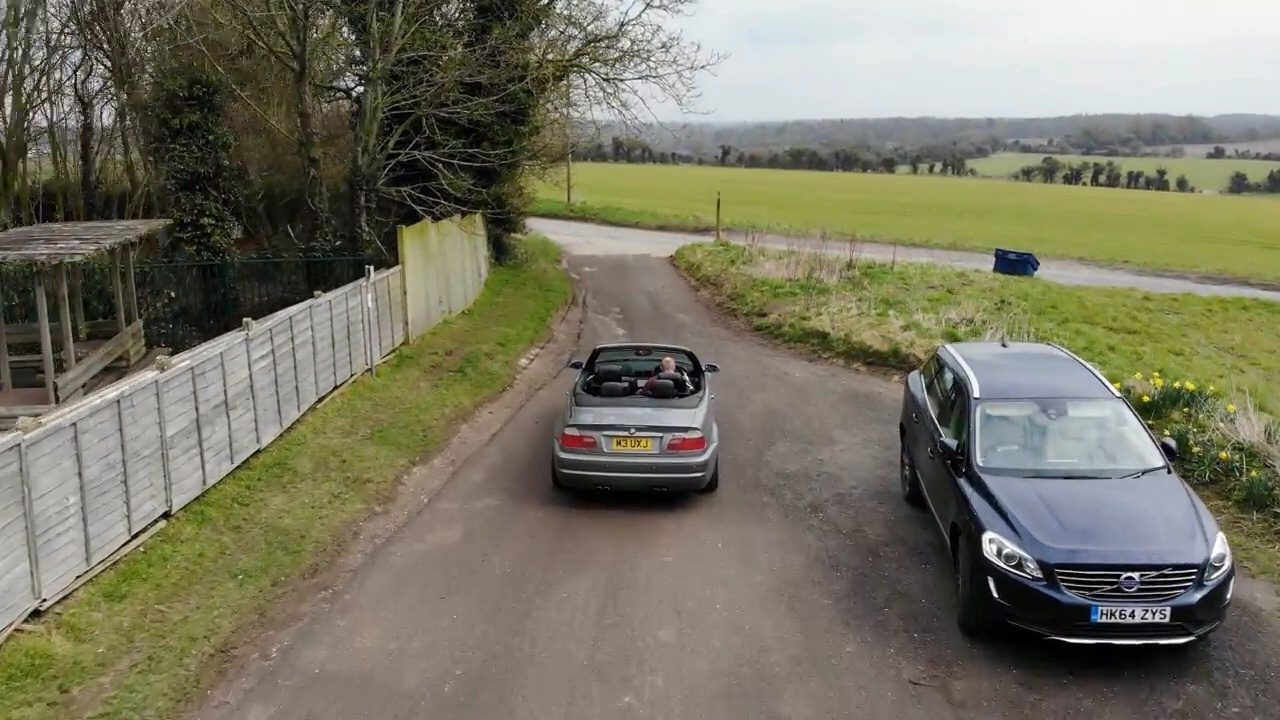araba: (891, 336, 1238, 665), (547, 340, 724, 495)
